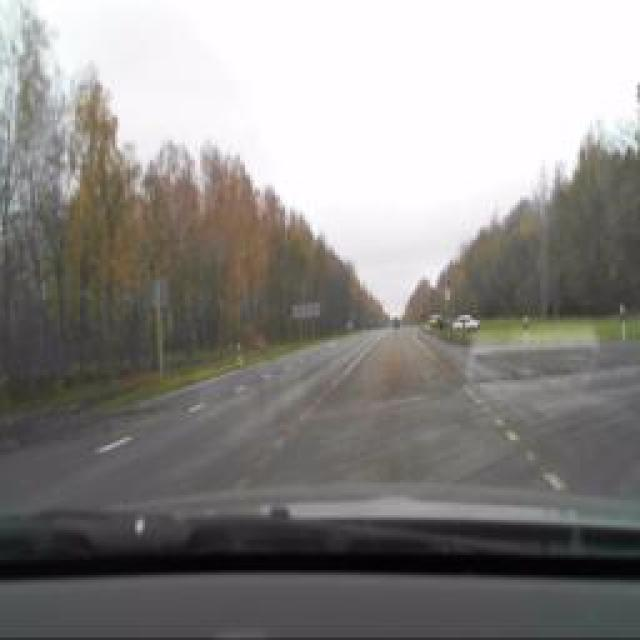sign: (442, 271, 452, 289)
